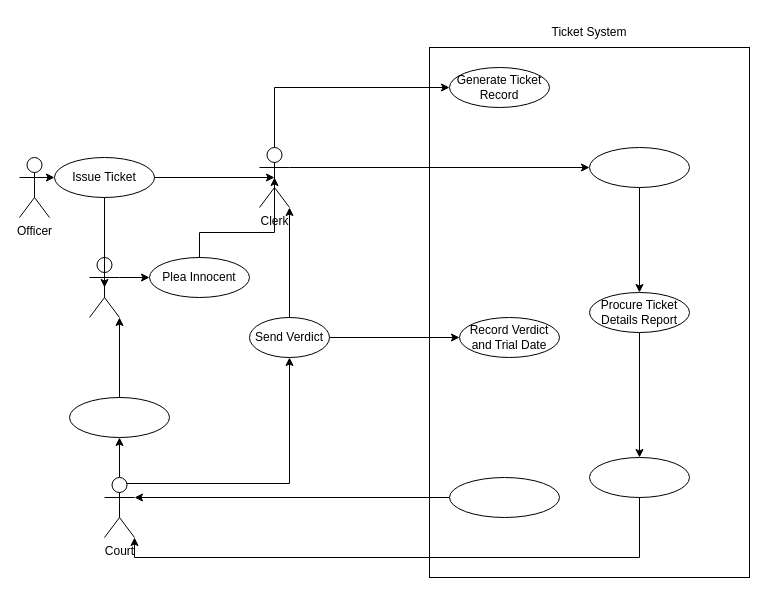
Some shapes in this 767 by 595 pixel diagram are drawn without their labels. The shapes that lost their labels are listed below. From the top down, each one's centre as x and y in pixels, then its label:
At point (639, 167): "Request Trial".
At point (104, 287): "Driver".
At point (119, 417): "Send Guilty Verdict".
At point (504, 497): "Generate Warrant Request".
At point (639, 477): "Send Ticket Details Report".
